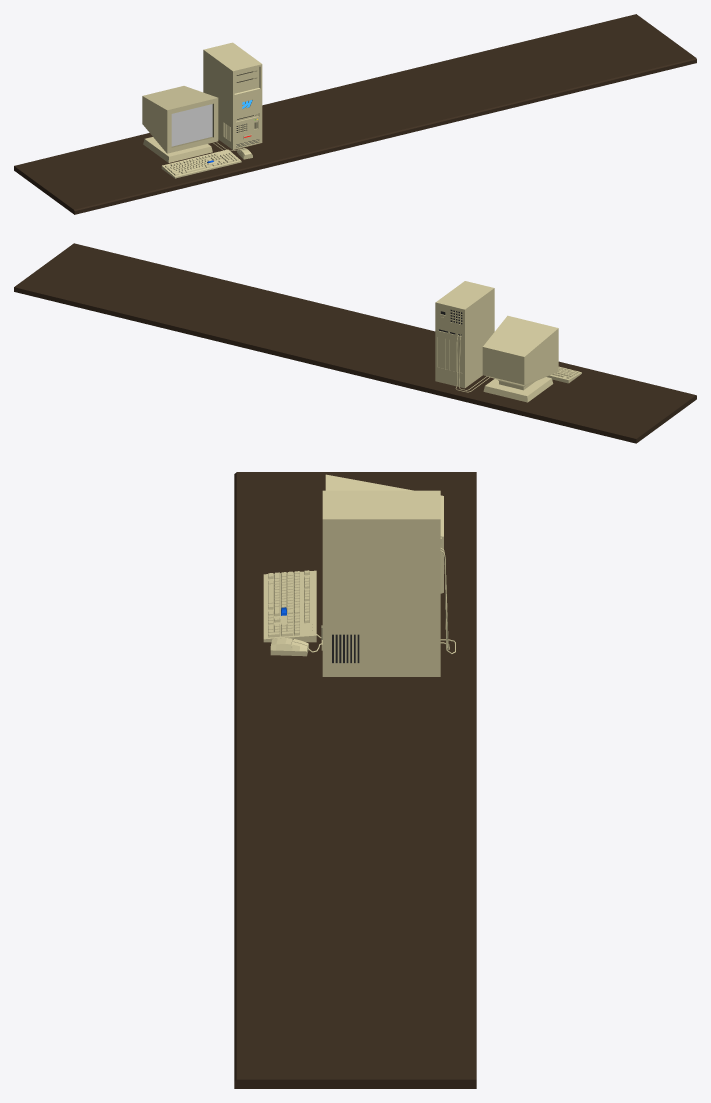
File: retro-computer.glb
3 renders of one model, top to bottom at view 1: azimuth 30°, elevation 25°; view 2: azimuth 150°, elevation 25°; view 3: azimuth 270°, elevation 25°, orthographic. The views are drawn at different scales.
Parts seen in each view (by area): view 1: Desk, Tower, Monitor, Screen, Keyboard; view 2: Desk, Monitor, Tower, Keyboard; view 3: Desk, Tower, Keyboard, Monitor.
Part boxes in pixels (x1,y1,x2,y2): Desk: [14, 14, 696, 214]; Tower: [203, 42, 262, 149]; Monitor: [142, 86, 218, 162]; Screen: [171, 104, 212, 146]; Keyboard: [161, 149, 241, 178]; Desk: [14, 243, 696, 443]; Monitor: [482, 315, 558, 402]; Tower: [435, 281, 494, 388]; Keyboard: [546, 366, 581, 383]; Desk: [234, 472, 476, 1088]; Tower: [321, 490, 441, 676]; Keyboard: [263, 570, 316, 642]; Monitor: [325, 474, 443, 593].
Size of the model in its own units: 98.45 by 12.61 by 16.6.
Materials: 1 (1 with a texture image).
